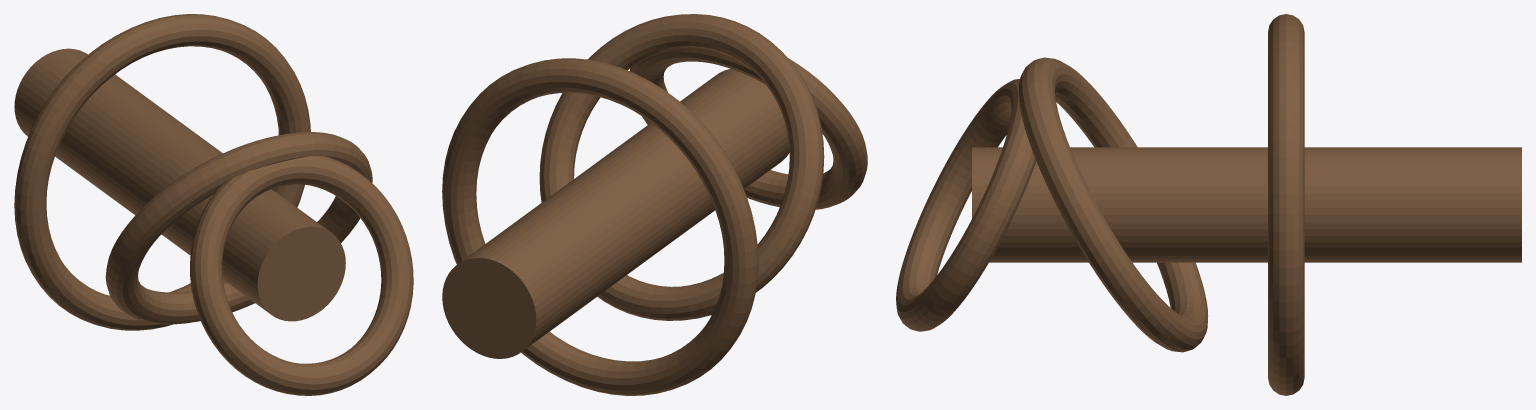
The model's file is gallery015_abstract_sculpture.glb.
3 views of the same model, side by side, from view 1: azimuth 30°, elevation 25°; view 2: azimuth 150°, elevation 25°; view 3: azimuth 270°, elevation 25° (orthographic). The views are drawn at different scales.
Visible parts, largest first — view 1: Core, Ring1.05, Ring0.45, Ring0.78; view 2: Core, Ring0.45, Ring0.78, Ring1.05; view 3: Core, Ring0.78, Ring1.05, Ring0.45.
Boxes of the visible parts, x1,y1,x2,y2 form: Core: (14, 48, 345, 321); Ring1.05: (190, 156, 413, 395); Ring0.45: (14, 14, 310, 330); Ring0.78: (105, 132, 372, 324); Core: (442, 69, 789, 358); Ring0.45: (442, 58, 758, 395); Ring0.78: (539, 14, 824, 320); Ring1.05: (629, 48, 867, 209); Core: (972, 147, 1521, 262); Ring0.78: (1018, 57, 1208, 352); Ring1.05: (896, 79, 1036, 331); Ring0.45: (1268, 14, 1304, 395).
Bounding box in the file's own units: 0.73 × 0.73 × 1.2.
